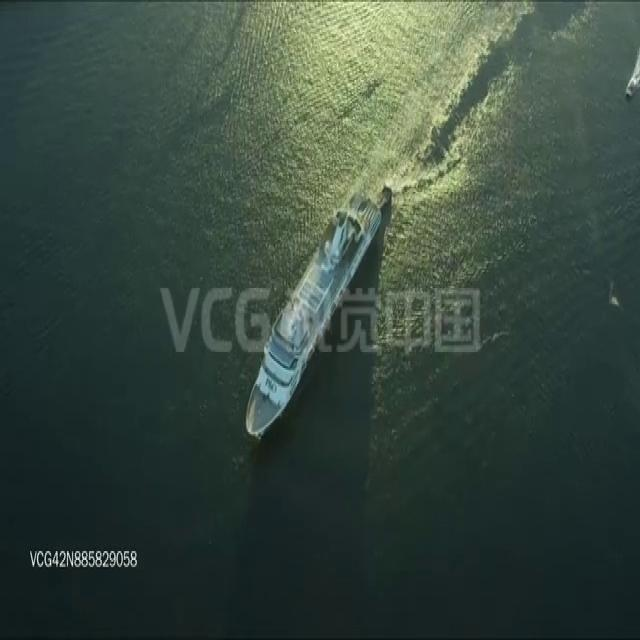passenger ship: (239, 182, 383, 438)
